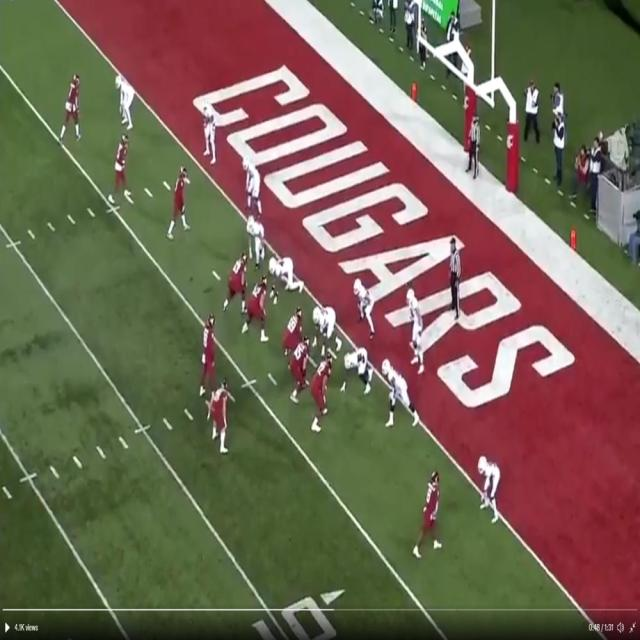center: (280, 310, 306, 345)
db: (475, 452, 499, 520), (114, 70, 134, 136), (241, 145, 256, 208)
lb: (384, 358, 414, 423), (406, 290, 425, 363), (199, 96, 218, 164), (248, 209, 262, 268), (353, 279, 370, 325)
qb: (204, 315, 217, 395)
skill: (419, 468, 444, 553), (210, 381, 234, 447), (170, 163, 190, 231), (63, 77, 80, 137), (116, 134, 131, 188)
